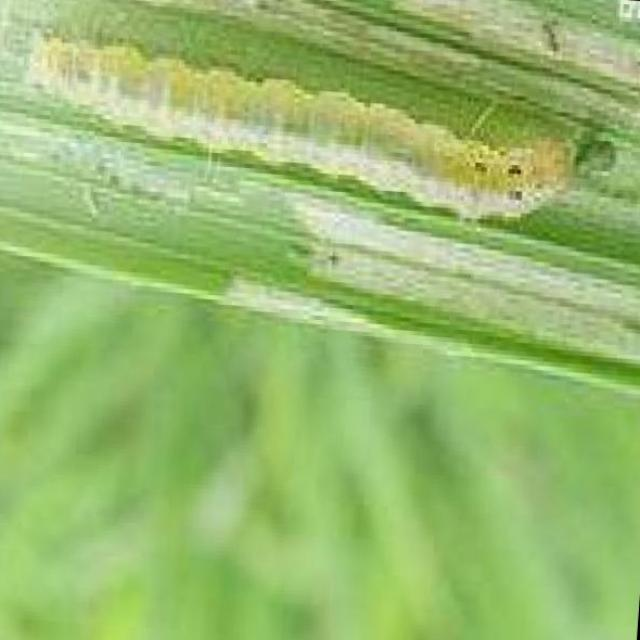leaf folder: (31, 37, 569, 217)
